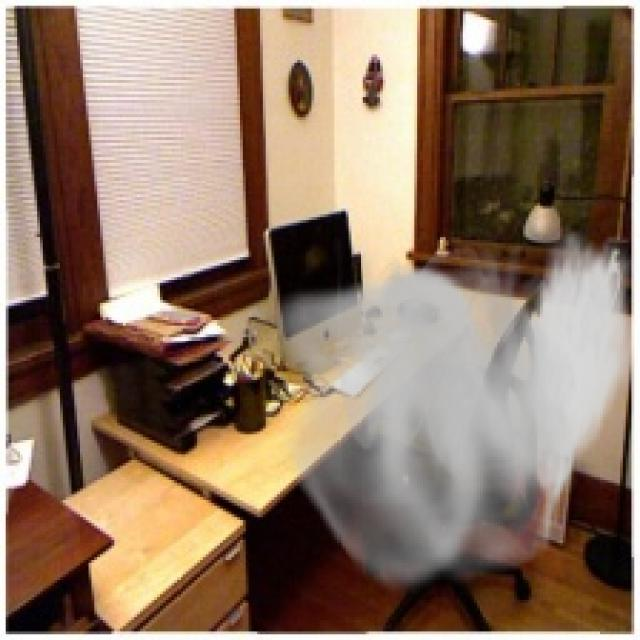smoke: (274, 223, 637, 600)
